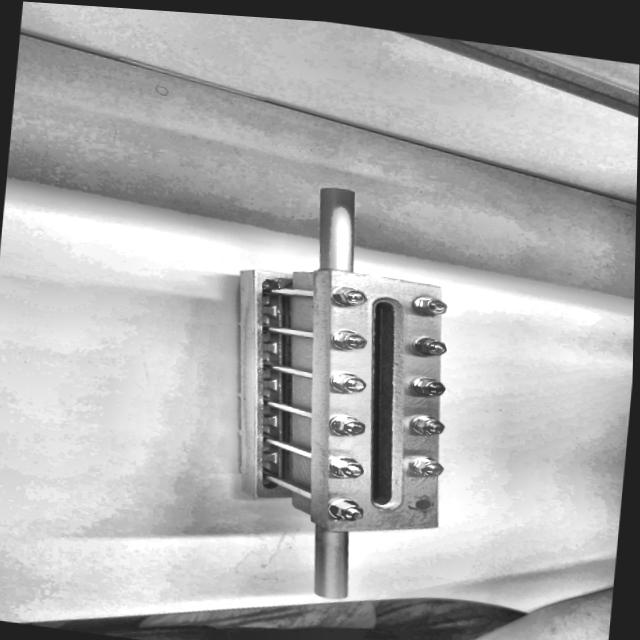ShuiWeiQi_11: (192, 172, 529, 597)
